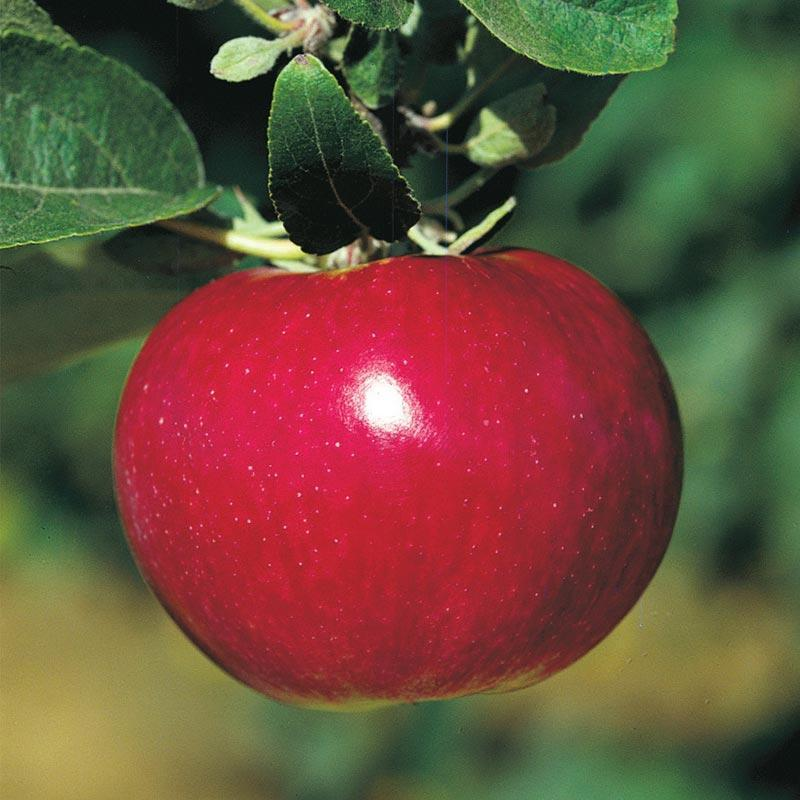apple: (107, 257, 686, 721)
